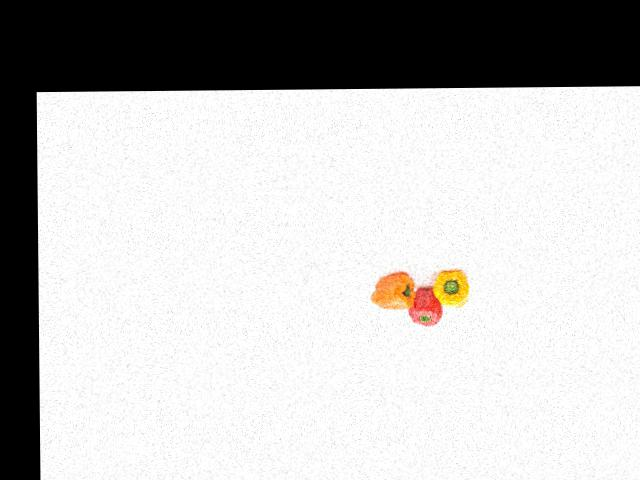bell_pepper: (428, 269, 472, 309)
